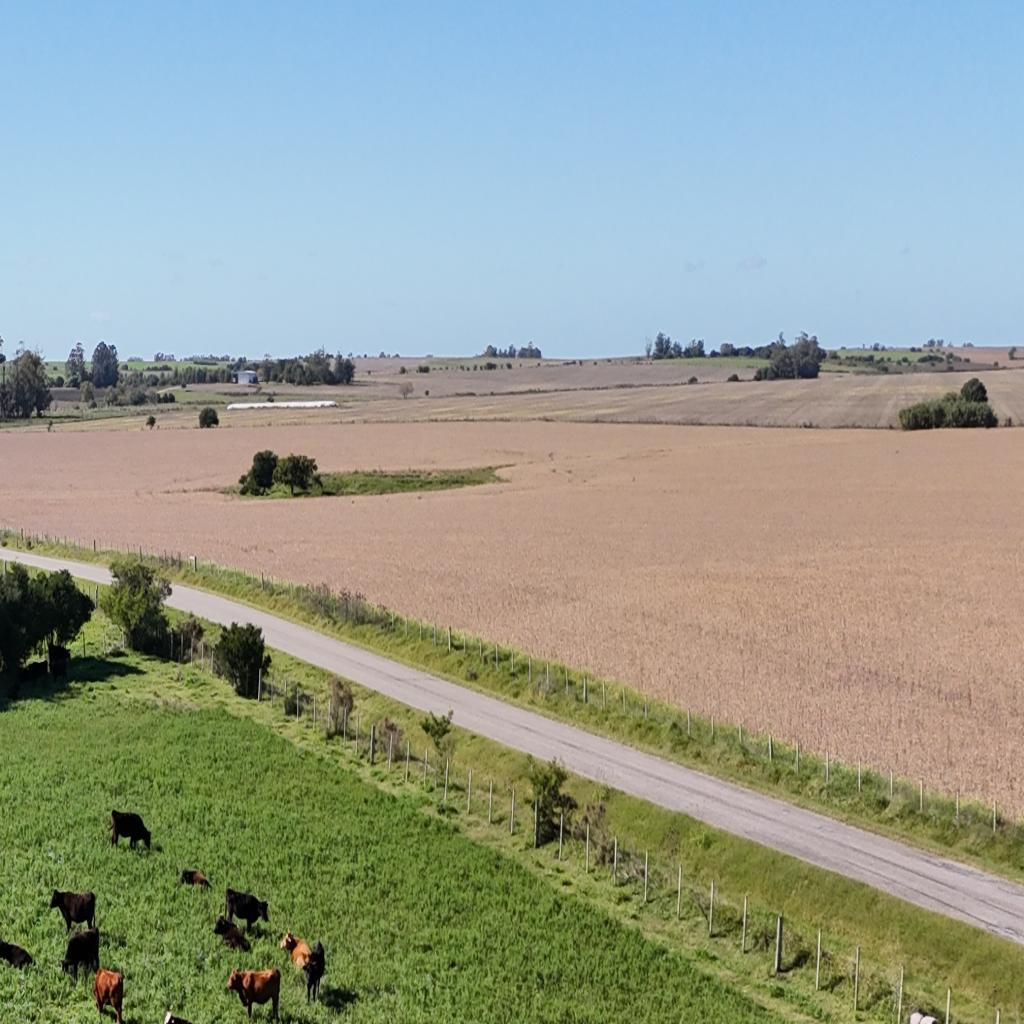cow: (225, 963, 282, 1023), (48, 886, 96, 936), (60, 924, 100, 984), (92, 964, 125, 1024), (228, 888, 271, 934), (110, 809, 152, 854), (279, 930, 313, 972), (301, 945, 324, 1005), (4, 660, 42, 695), (0, 938, 34, 970), (47, 641, 71, 680), (180, 868, 213, 892), (163, 1011, 193, 1024)
